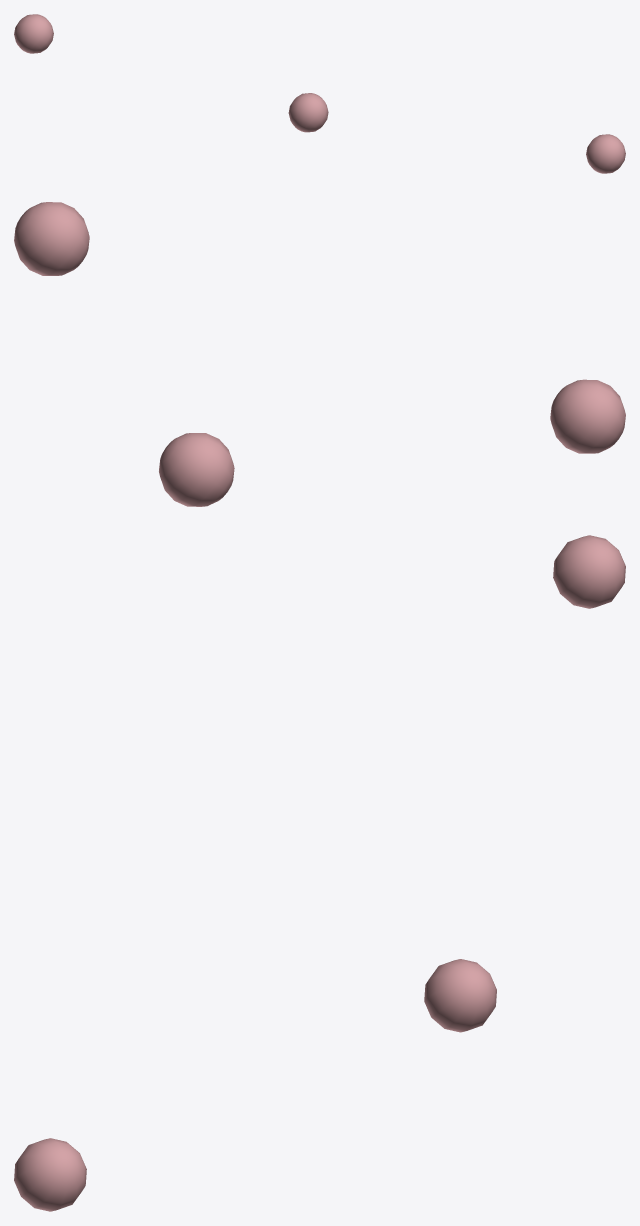
3 views of the same model, one above another, from view 1: azimuth 30°, elevation 25°; view 2: azimuth 150°, elevation 25°; view 3: azimuth 270°, elevation 25° (orthographic). The views are drawn at different scales.
Parts seen in each view (by area): view 1: ZA_2104aeeb43e4ccca; view 2: ZA_2104aeeb43e4ccca; view 3: ZA_2104aeeb43e4ccca.
Part boxes in pixels (bbox=[...]): ZA_2104aeeb43e4ccca: bbox=[14, 14, 625, 173]; ZA_2104aeeb43e4ccca: bbox=[14, 202, 625, 506]; ZA_2104aeeb43e4ccca: bbox=[14, 535, 625, 1211].
Size of the model in its own units: 0.0346 by 0.011 by 0.0215.
